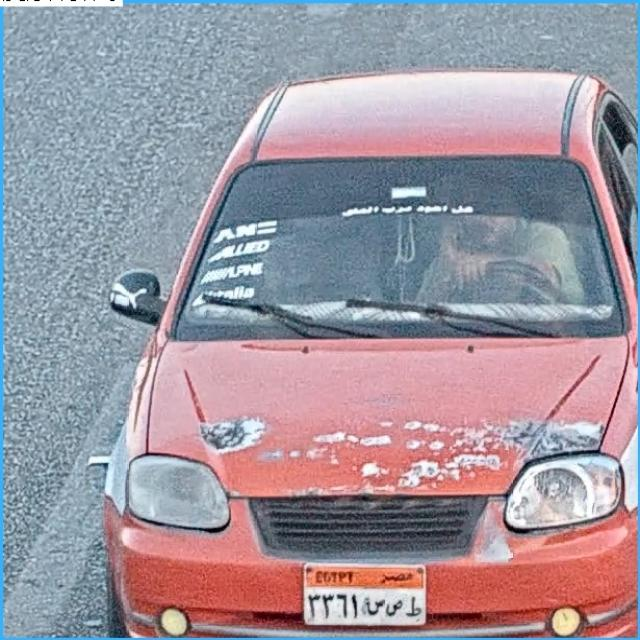windshield: (178, 163, 613, 343)
